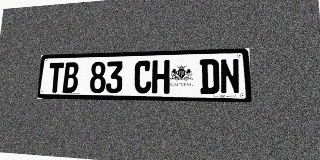3: (106, 61, 123, 93)
8: (89, 61, 107, 93)
B: (62, 62, 79, 93)
C: (134, 60, 152, 93)
D: (200, 59, 219, 94)
H: (152, 60, 170, 94)
N: (219, 58, 240, 94)
T: (47, 62, 64, 93)
